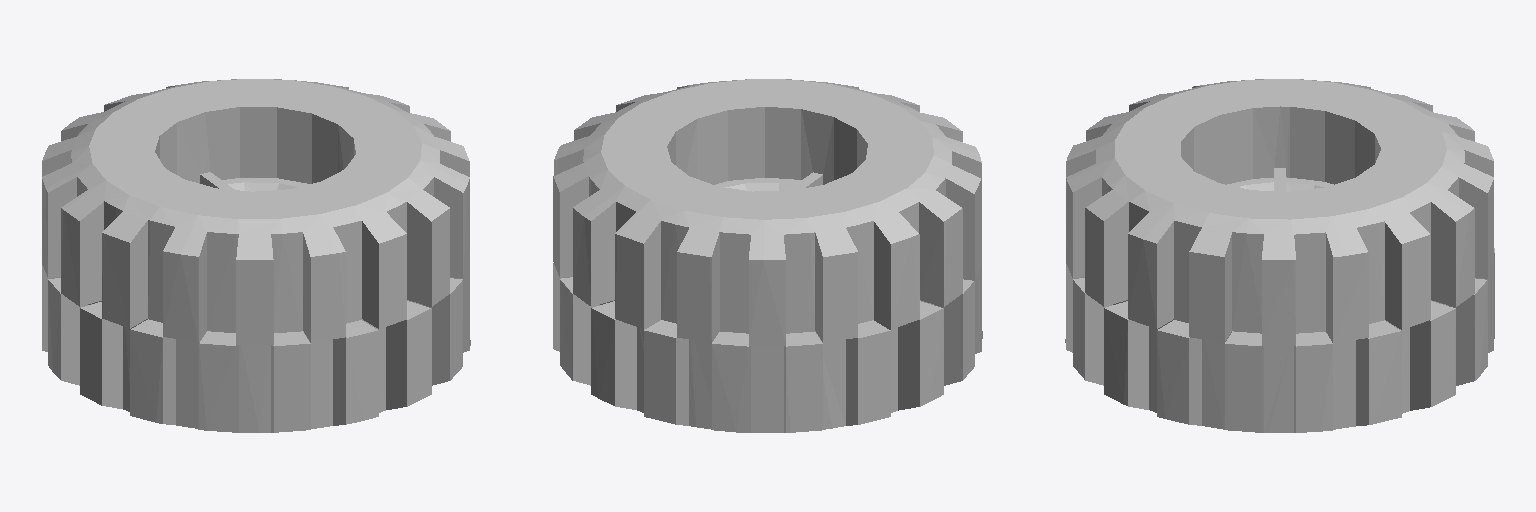
Rendered from Wheel_rear-right.obj.
3 renders of one model, left to right at view 1: azimuth 30°, elevation 25°; view 2: azimuth 150°, elevation 25°; view 3: azimuth 270°, elevation 25°, orthographic.
Size of the model in its own units: 21.66 by 11.9 by 21.66.